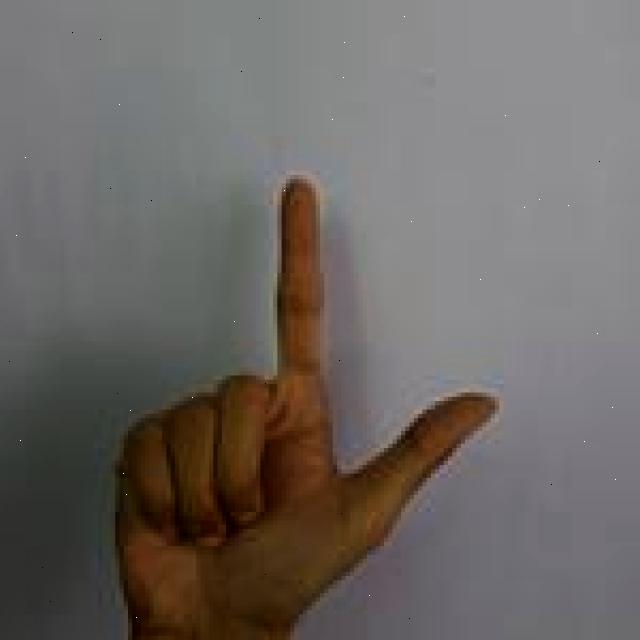L: (104, 168, 504, 640)
